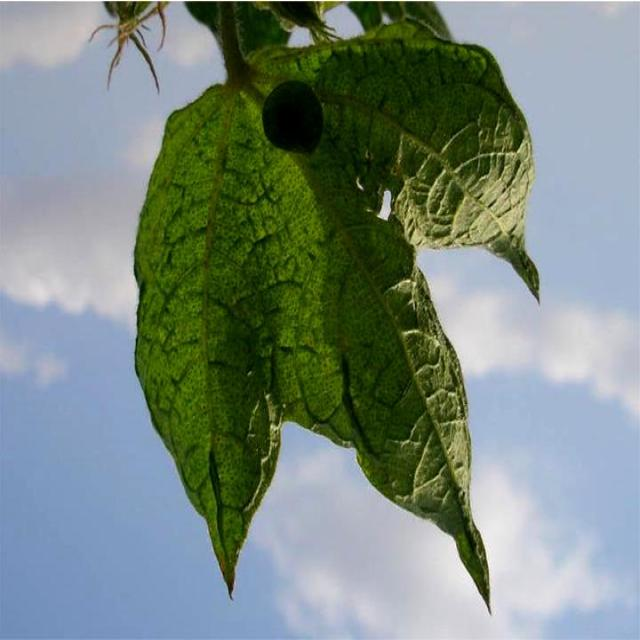Leaf Curl Virus: (172, 76, 500, 430)
